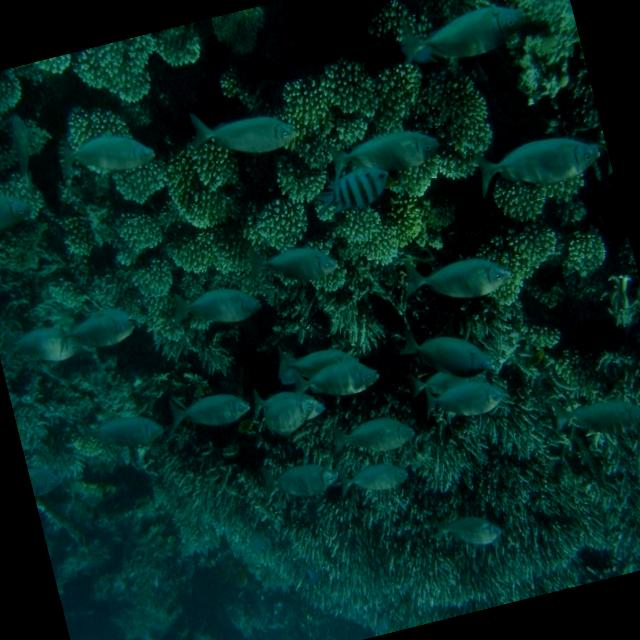Sokar Baligi: (459, 107, 615, 215), (176, 74, 313, 184), (387, 0, 541, 78), (158, 365, 257, 447)
